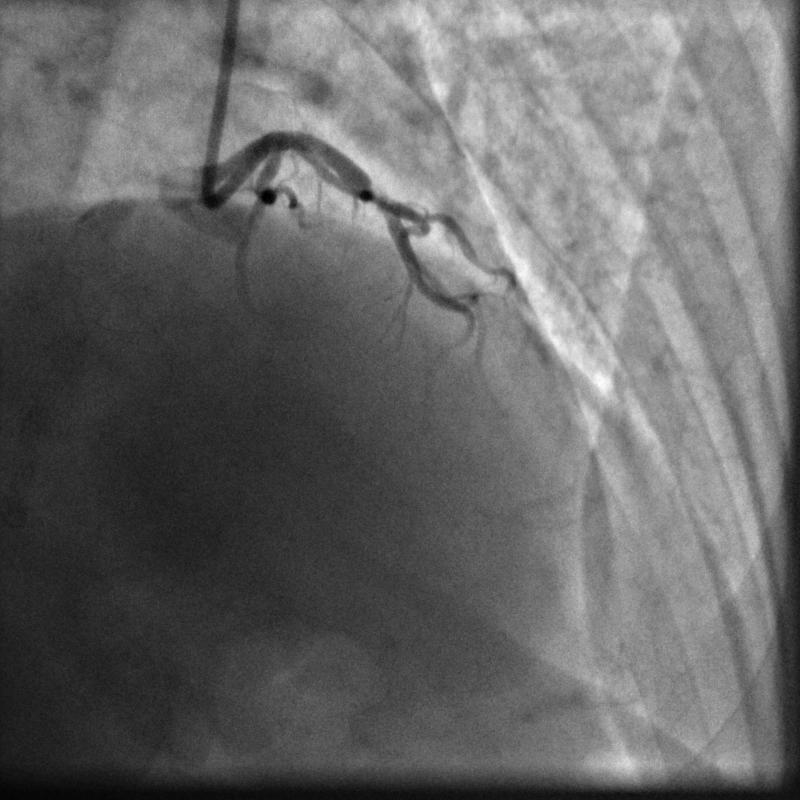Stenosis: (369, 179, 385, 213)
